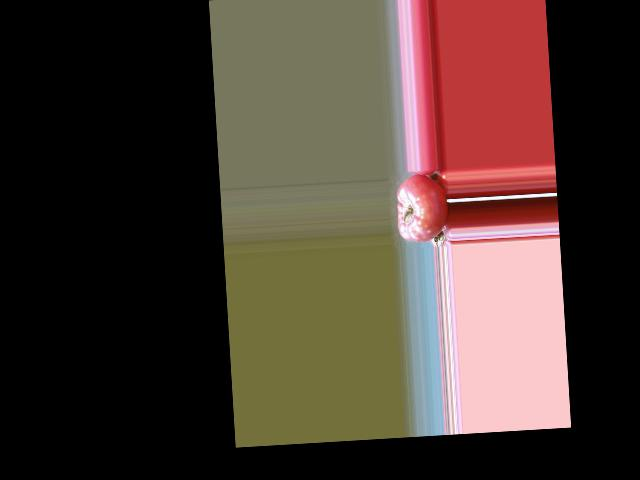tomato: (395, 171, 449, 243)
